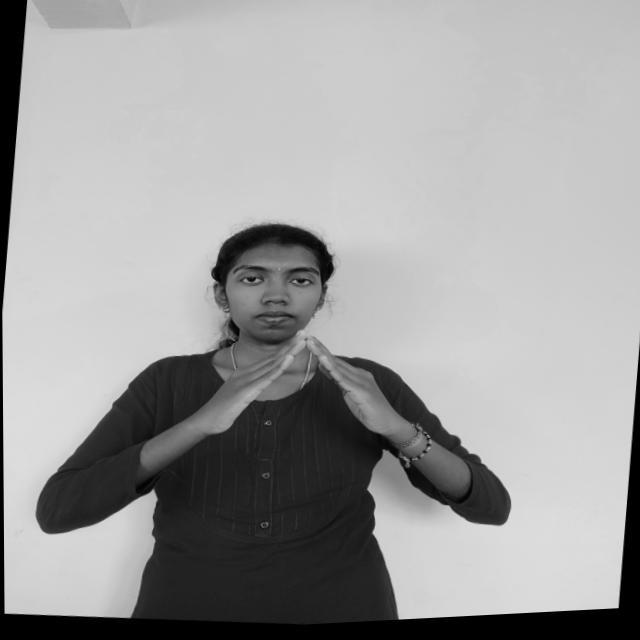Home: (177, 314, 424, 466)
